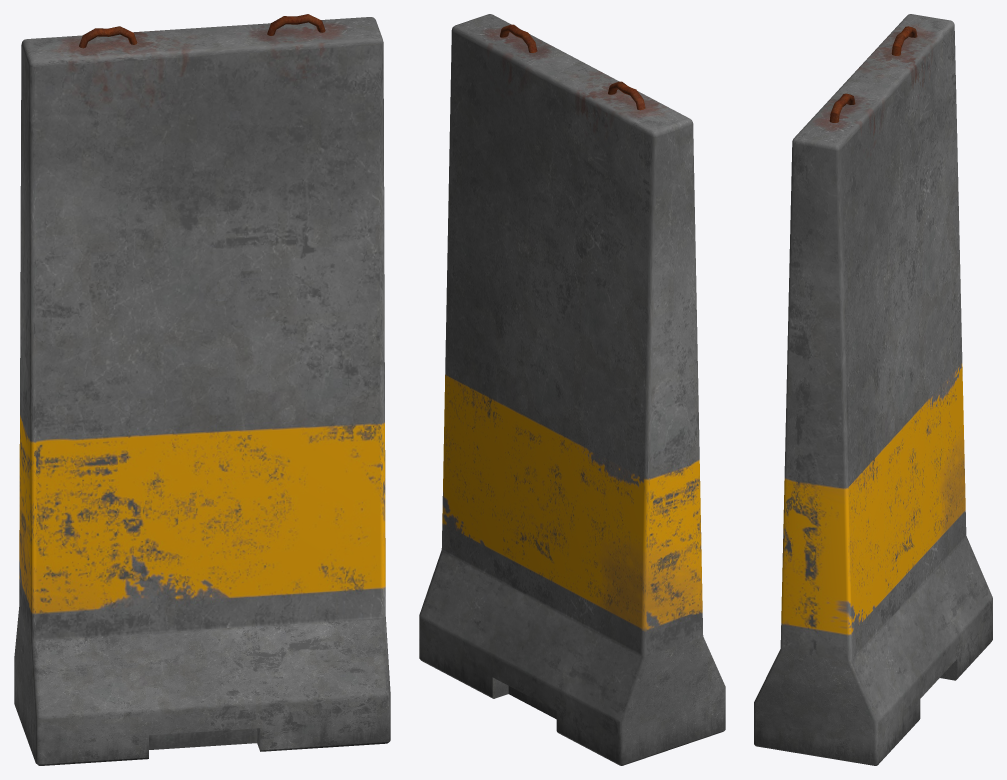
Rendered from ParedHormigon_02.glb.
3 views of the same model, side by side, from view 1: azimuth 30°, elevation 25°; view 2: azimuth 150°, elevation 25°; view 3: azimuth 270°, elevation 25° (orthographic). The views are drawn at different scales.
Visible parts, largest first — view 1: Object_12; view 2: Object_12; view 3: Object_12.
Part boxes in pixels (x1,y1,x2,y2): Object_12: (14,14,390,765); Object_12: (419,14,725,765); Object_12: (754,14,992,765).
Size of the model in its own units: 1.01 by 2.04 by 0.7004.
1 material, 1 textured.
